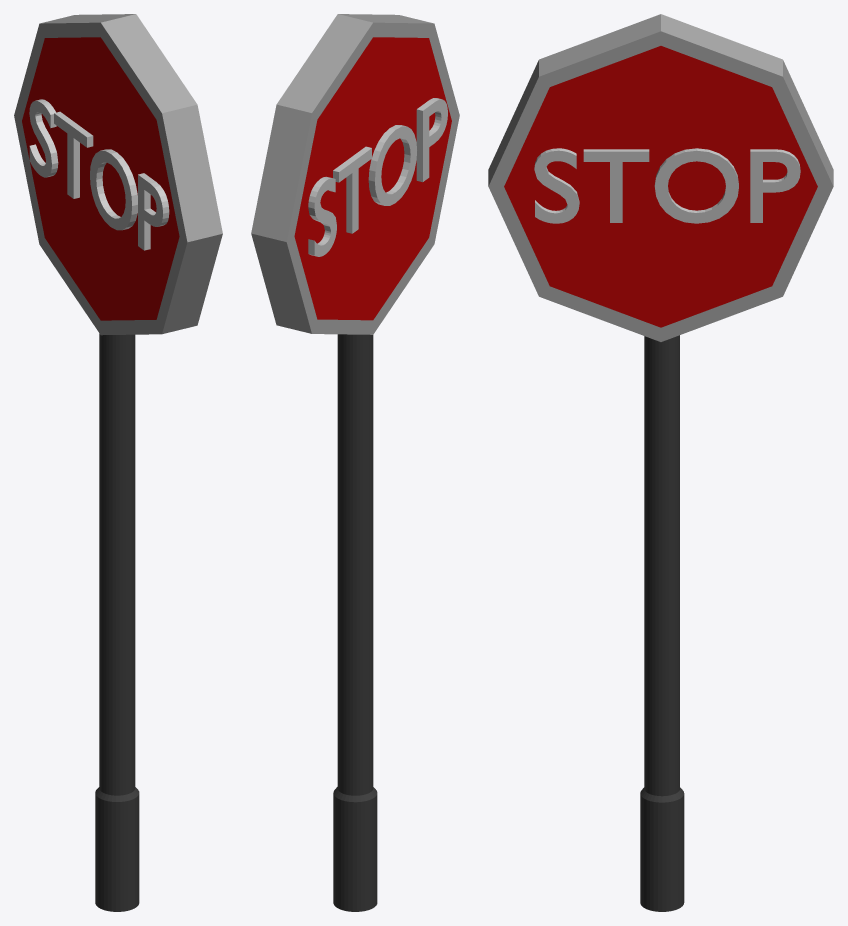
File: stop_sign.glb
3 views of the same model, side by side, from view 1: azimuth 30°, elevation 25°; view 2: azimuth 150°, elevation 25°; view 3: azimuth 270°, elevation 25° (orthographic).
Parts seen in each view (by area): view 1: STOP SIGN.001_Material.053_0; view 2: STOP SIGN.001_Material.053_0; view 3: STOP SIGN.001_Material.053_0.
Part boxes in pixels (x1=…): STOP SIGN.001_Material.053_0: x1=14, y1=14, x2=222, y2=911; STOP SIGN.001_Material.053_0: x1=251, y1=14, x2=459, y2=911; STOP SIGN.001_Material.053_0: x1=488, y1=14, x2=833, y2=911.
Bounding box in the file's own units: 0.048 × 0.866 × 0.3077.
1 material, 1 textured.
